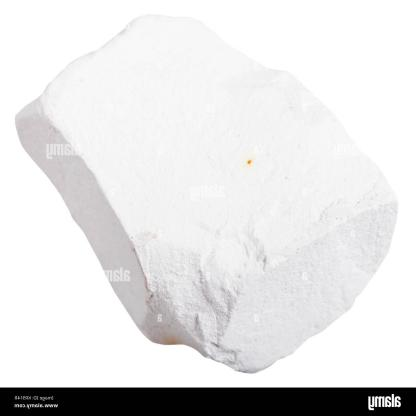Sedimentary_Chalk: (10, 10, 400, 375)
